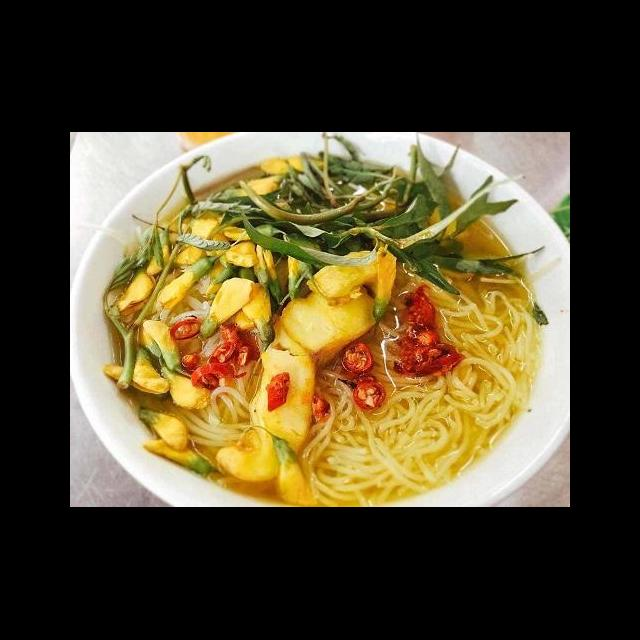bun: (312, 368, 507, 506), (144, 270, 269, 450), (407, 272, 552, 421)
bun ca: (84, 158, 570, 508)
ca: (261, 242, 400, 374), (238, 312, 319, 458)
rau ram: (412, 134, 521, 248), (353, 190, 465, 300), (235, 206, 383, 270), (418, 243, 550, 280)
